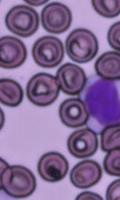M: (79, 74, 119, 130)
